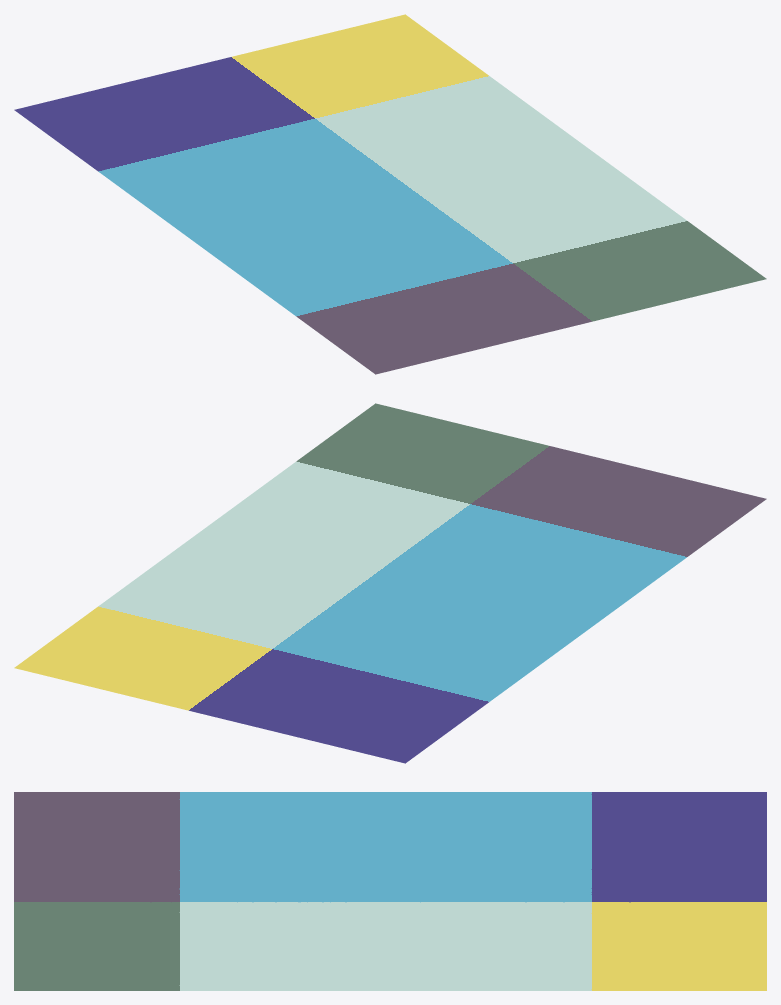
Rendered from RoadPart_05.fbx.
3 views of the same model, one above another, from view 1: azimuth 30°, elevation 25°; view 2: azimuth 150°, elevation 25°; view 3: azimuth 270°, elevation 25° (orthographic). The views are drawn at different scales.
Visible parts, largest first — view 1: Part_5; view 2: Part_5; view 3: Part_5.
Part boxes in pixels (box(x1,y1,x2,y2)): Part_5: box(14, 14, 766, 374); Part_5: box(14, 403, 766, 763); Part_5: box(14, 792, 766, 990).
Size of what is drawn, in the model's own units: 400 by 0.000104 by 640.
